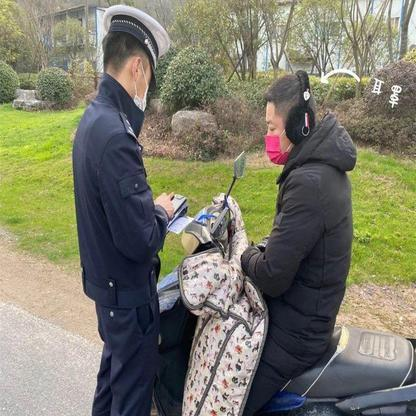target: (157, 71, 412, 410)
